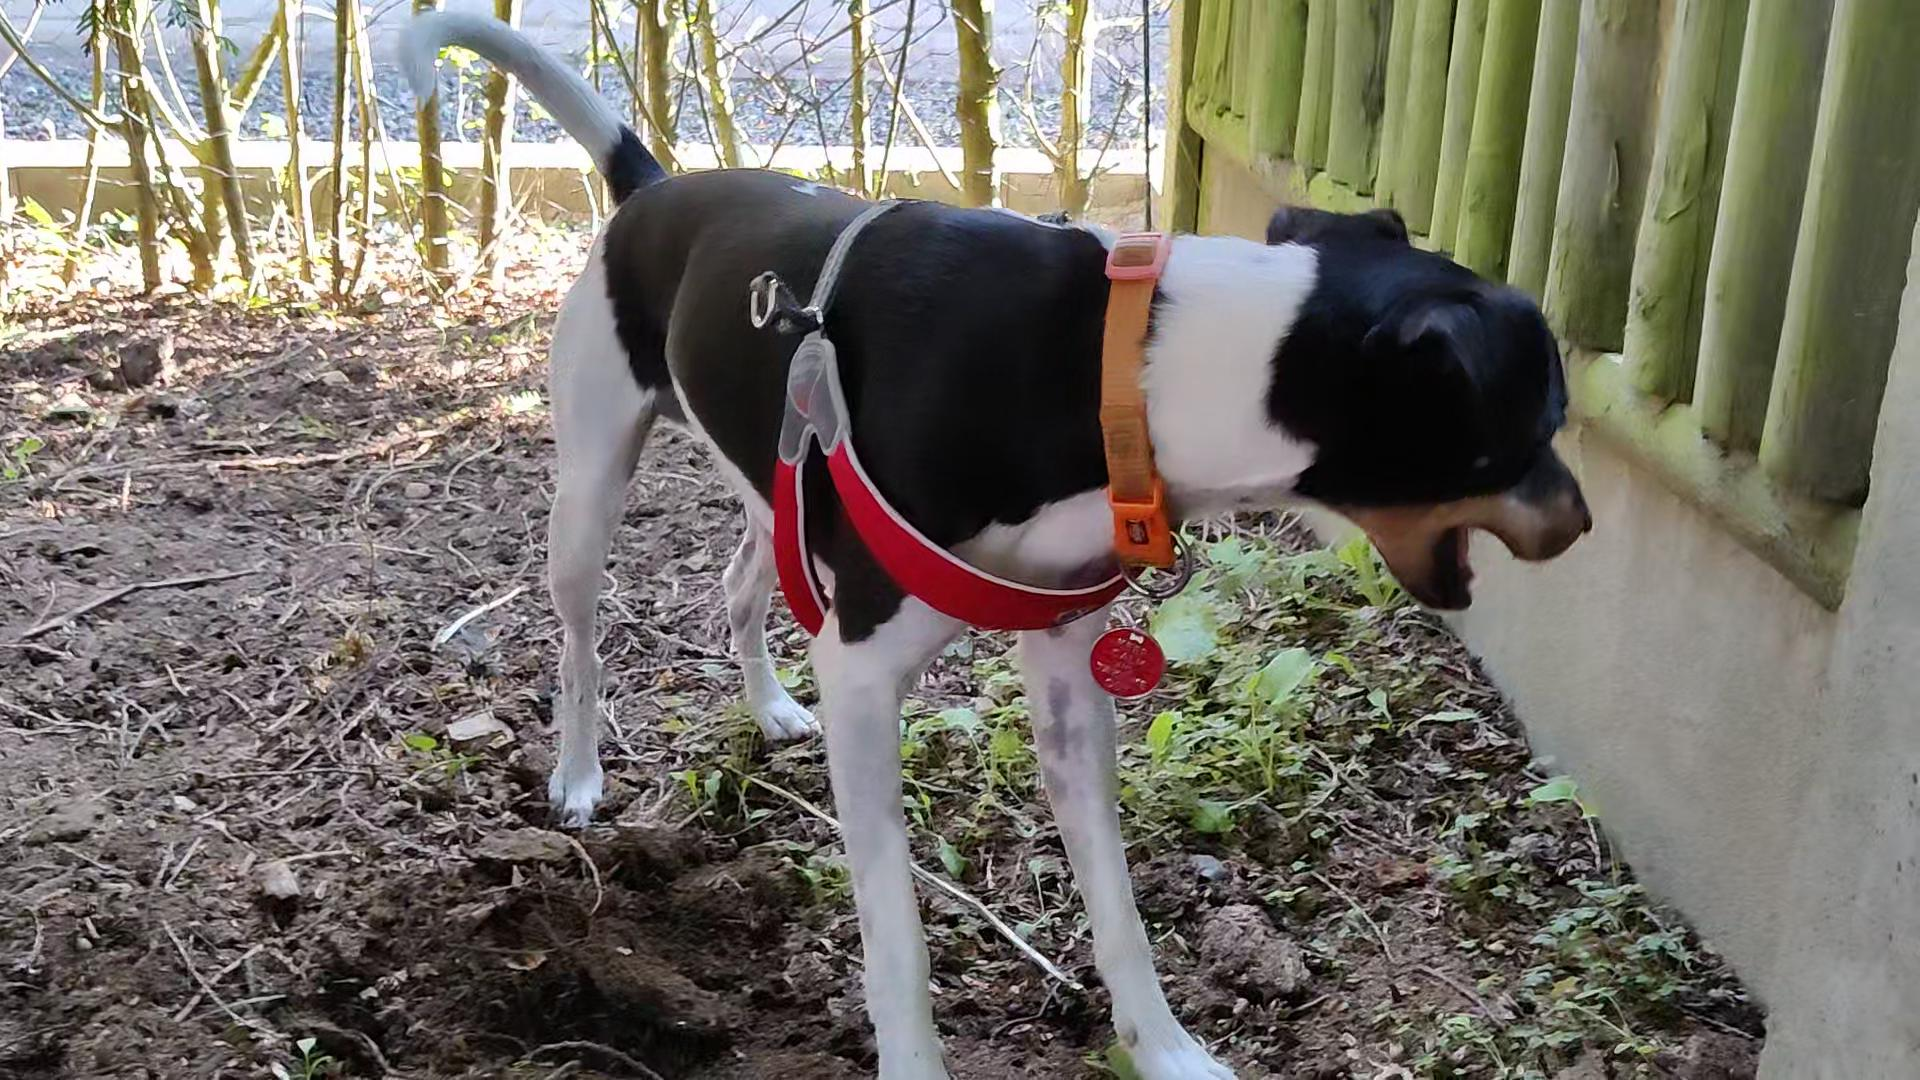Dog: (386, 3, 1600, 1079)
